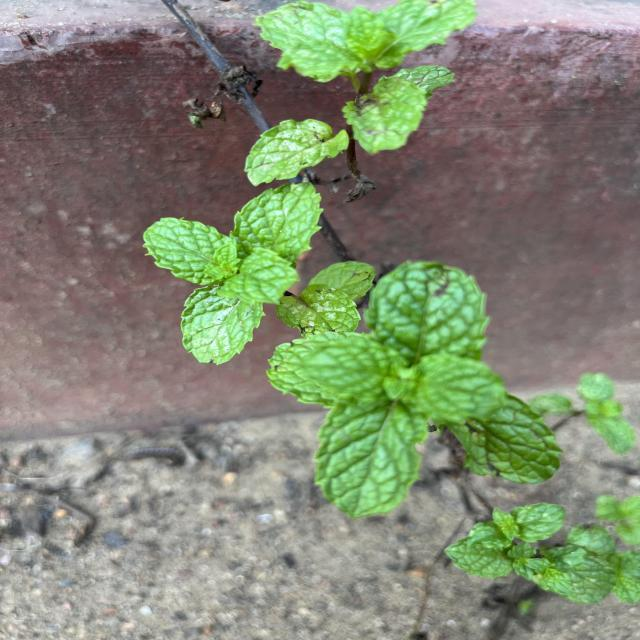Mentha spicata: (230, 181, 328, 262), (242, 117, 350, 188), (178, 283, 267, 367), (140, 214, 237, 286)
